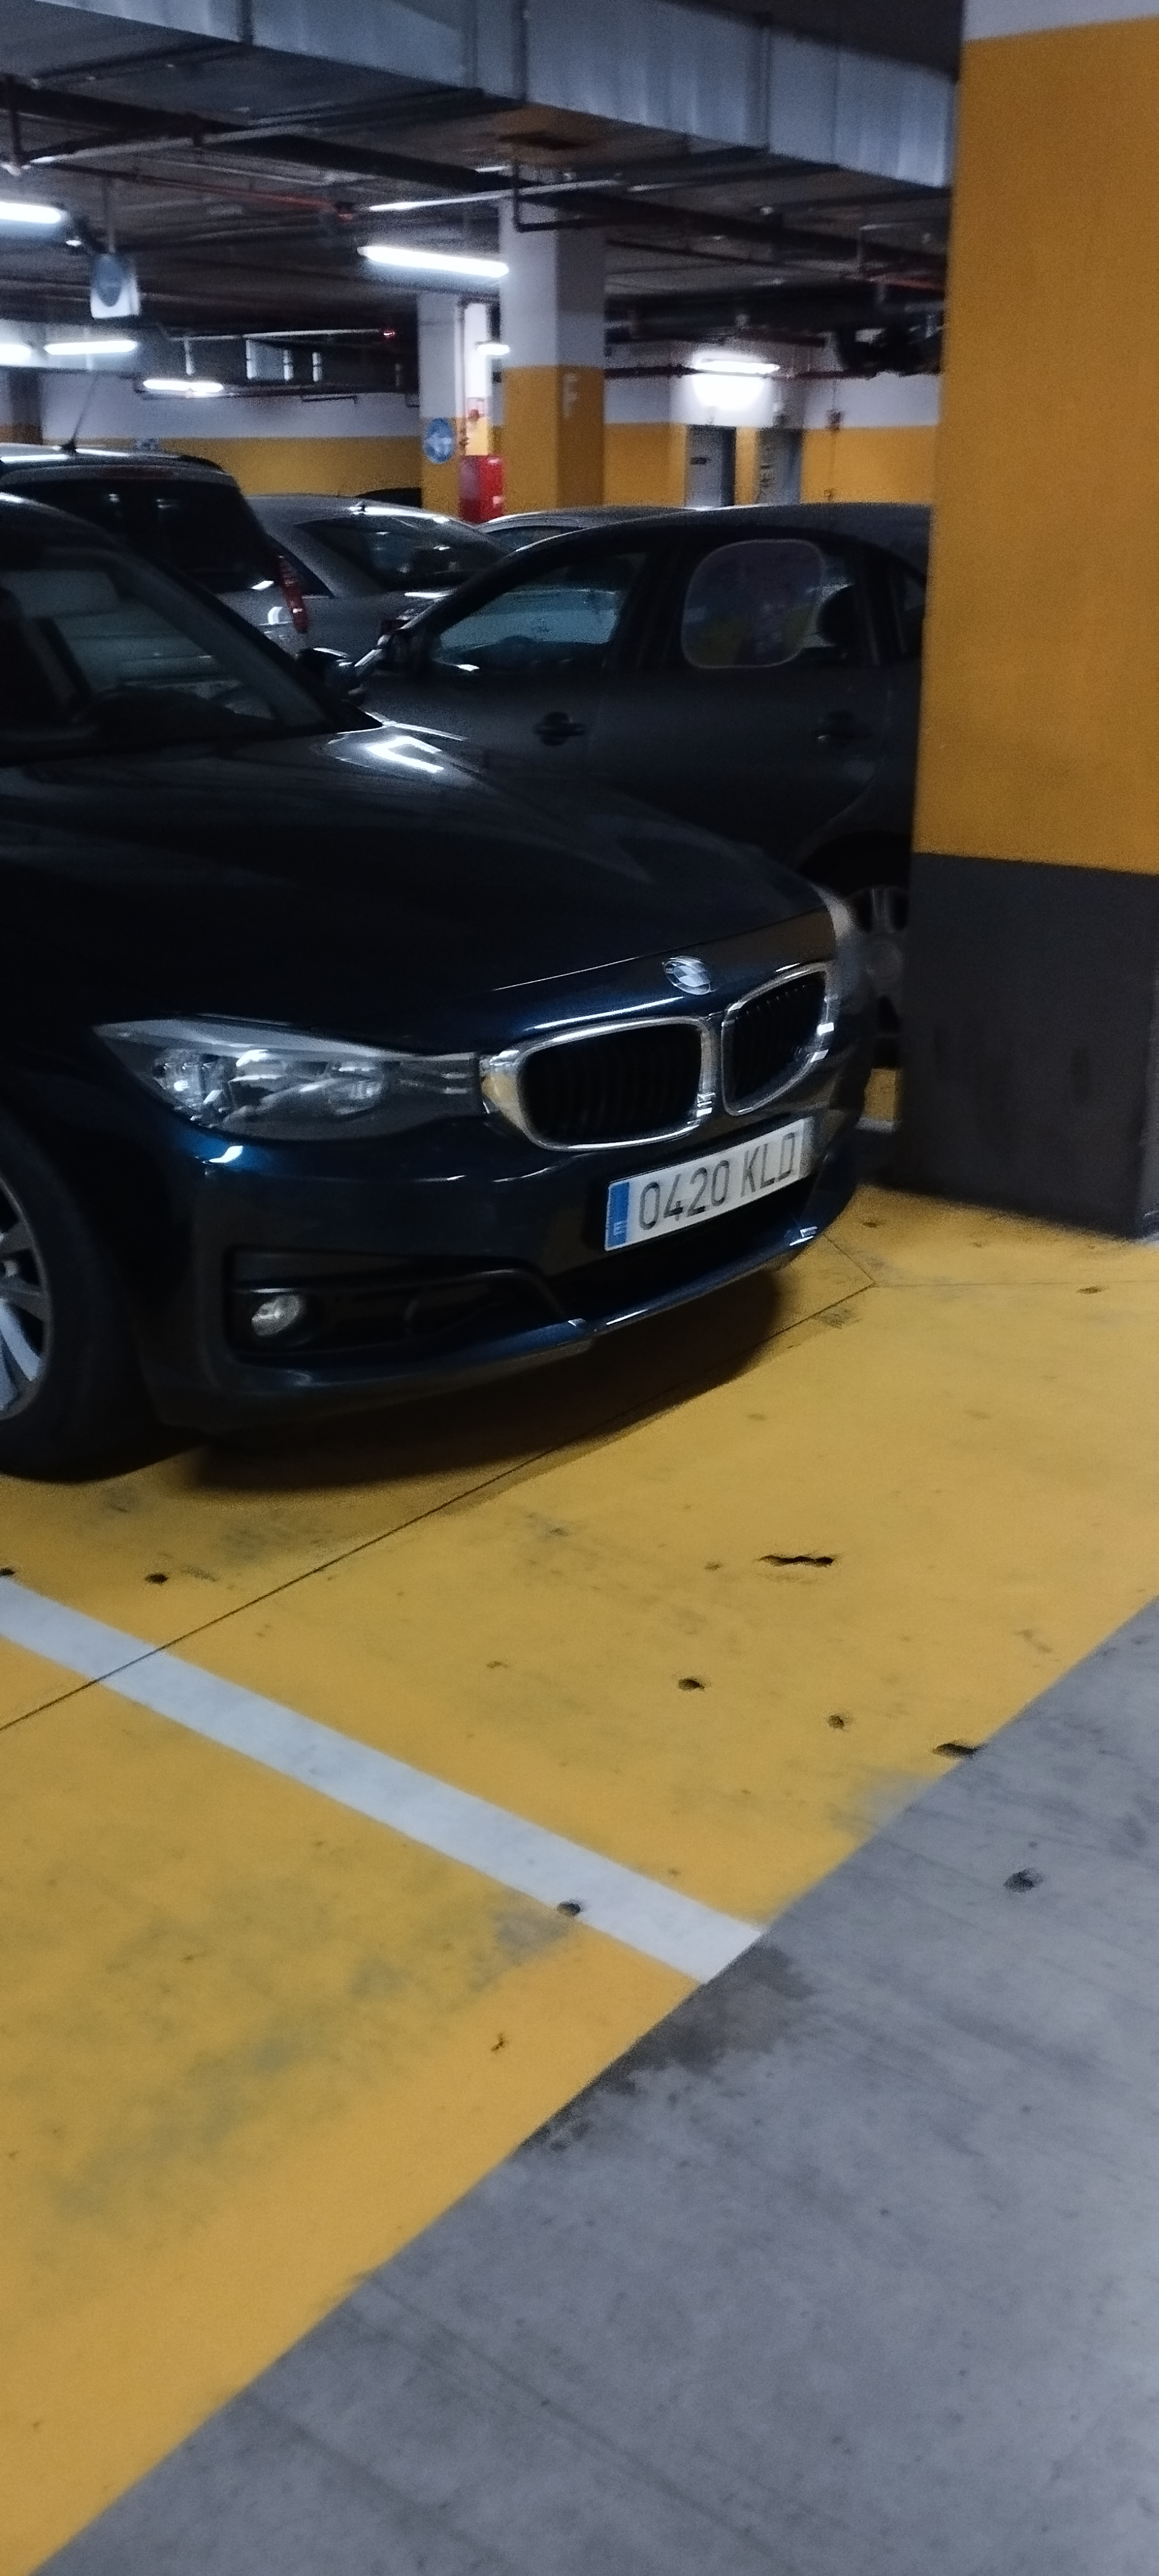Car: (0, 484, 873, 1428)
Plate: (588, 1193, 825, 1262)
